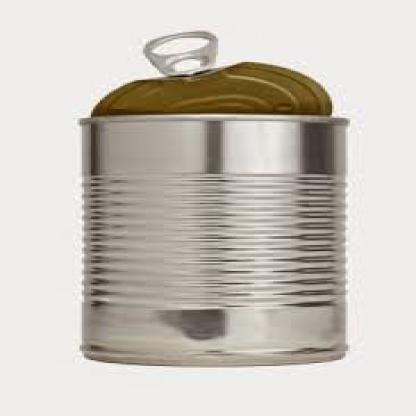Compsot: (77, 115, 348, 363), (89, 32, 332, 113)
